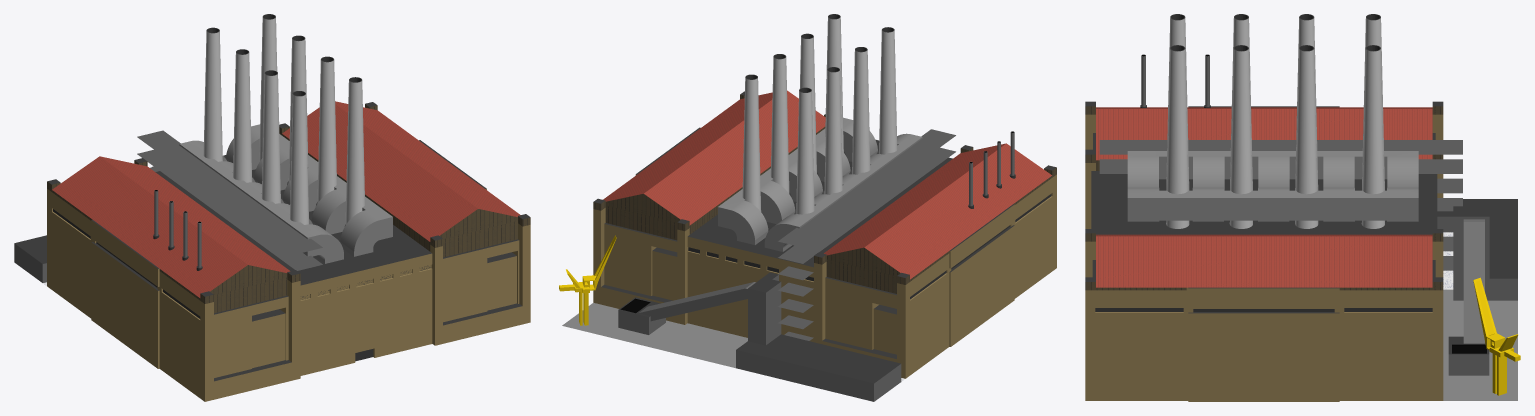
The picture shows the model from 3 angles, left to right: view 1: azimuth 30°, elevation 25°; view 2: azimuth 150°, elevation 25°; view 3: azimuth 270°, elevation 25°; orthographic projection. The views are drawn at different scales.
Parts seen in each view (by area): view 1: SketchUp (×20); view 2: SketchUp (×23); view 3: SketchUp (×27).
Part boxes in pixels (left/top/right/bottom): SketchUp (×20): left=14, top=17, right=530, bottom=401; SketchUp (×23): left=559, top=17, right=1056, bottom=401; SketchUp (×27): left=1085, top=17, right=1520, bottom=401.
Bounding box in the file's own units: 5470 × 5492 × 3876.
Materials: 15 (2 with a texture image).
